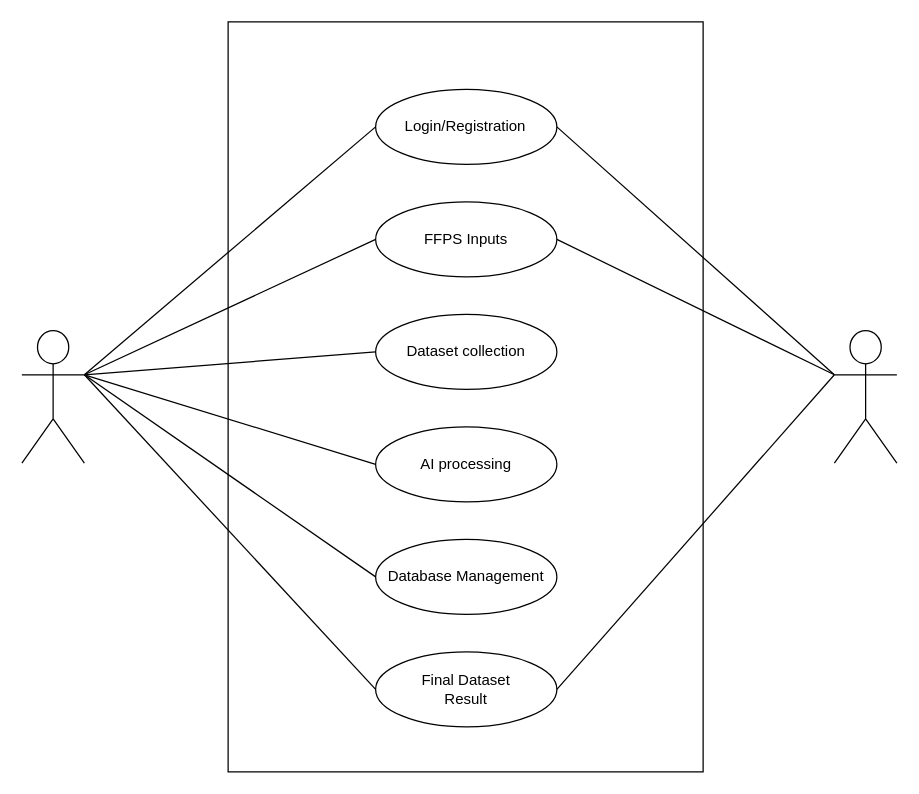
This 919x794 diagram has some shape labels left out. Here are the shapes that lost their labels. From the top down, the box of each, then its label:
(21, 329, 84, 463): Admin
(833, 329, 897, 463): User
